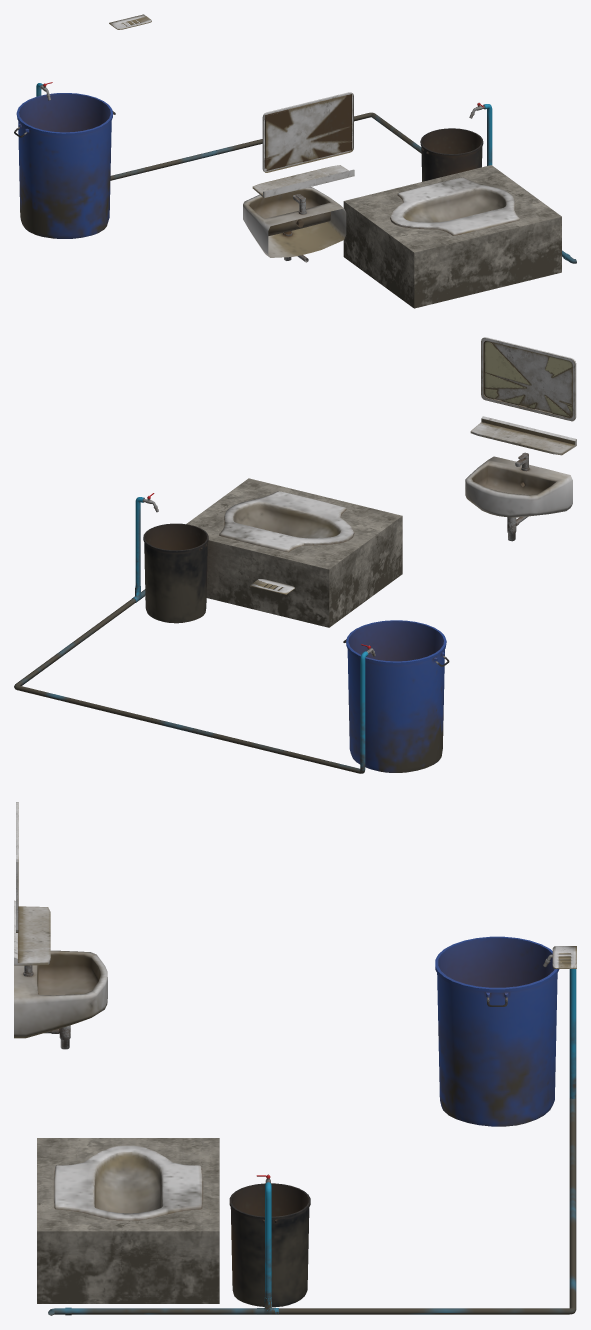
File: ToiletNew.fbx
The picture shows the model from 3 angles, top to bottom: view 1: azimuth 30°, elevation 25°; view 2: azimuth 150°, elevation 25°; view 3: azimuth 270°, elevation 25°; orthographic projection. The views are drawn at different scales.
Parts seen in each view (by area): view 1: Cube.025, Circle.002, Cube.002, Circle.003, Cube.043, Cube.001; view 2: Cube.025, Circle.002, Cube.002, Circle.003, Cube.043, Cube.001; view 3: Cube.025, Circle.002, Cube.002, Circle.003, Cube.043.
Part boxes in pixels (x1,y1,x2,y2): Cube.025: [343, 165, 561, 308]; Circle.002: [14, 93, 115, 238]; Cube.002: [243, 94, 354, 262]; Circle.003: [420, 128, 483, 181]; Cube.043: [36, 82, 576, 263]; Cube.001: [262, 92, 353, 172]; Cube.025: [186, 478, 402, 627]; Circle.002: [343, 620, 449, 772]; Cube.002: [465, 341, 576, 541]; Circle.003: [143, 523, 208, 623]; Cube.043: [14, 493, 375, 773]; Cube.001: [481, 337, 576, 421]; Cube.025: [37, 1138, 219, 1303]; Circle.002: [435, 936, 559, 1126]; Cube.002: [14, 900, 107, 1049]; Circle.003: [229, 1183, 310, 1307]; Cube.043: [48, 954, 576, 1315].
Bounding box in the file's own units: 333 × 197 × 324.
